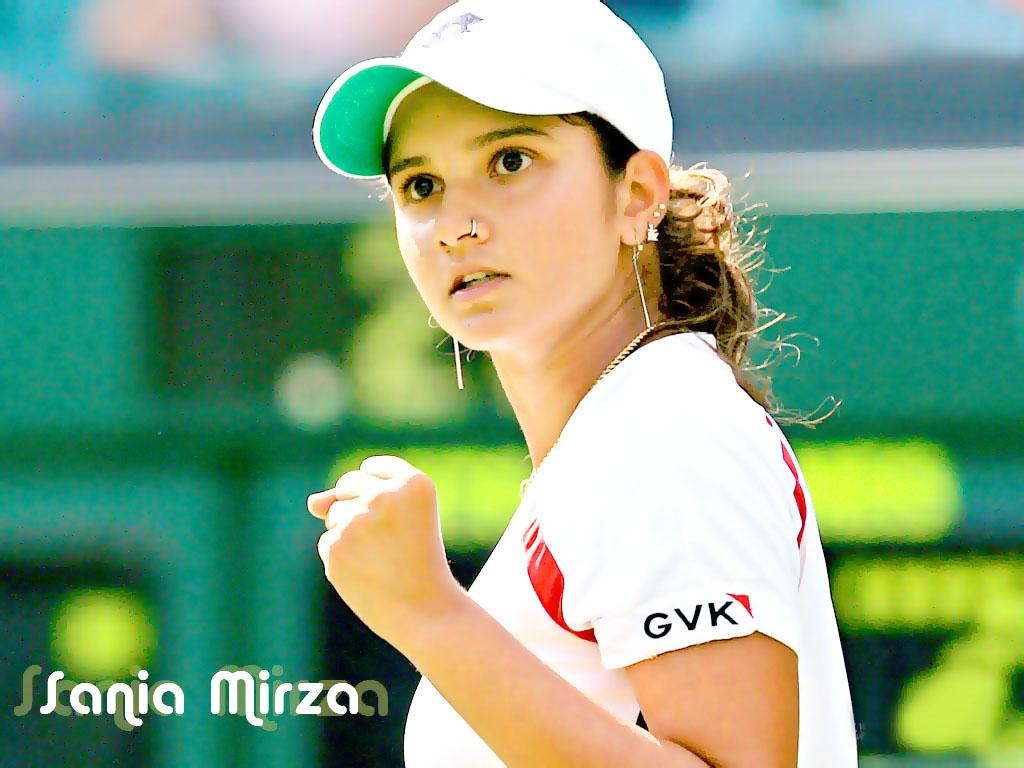face: (388, 82, 618, 350)
